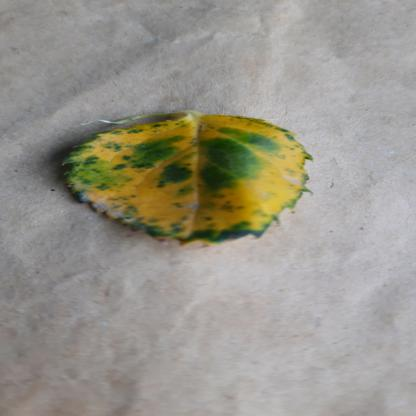downy-mildew: (46, 110, 326, 244)
